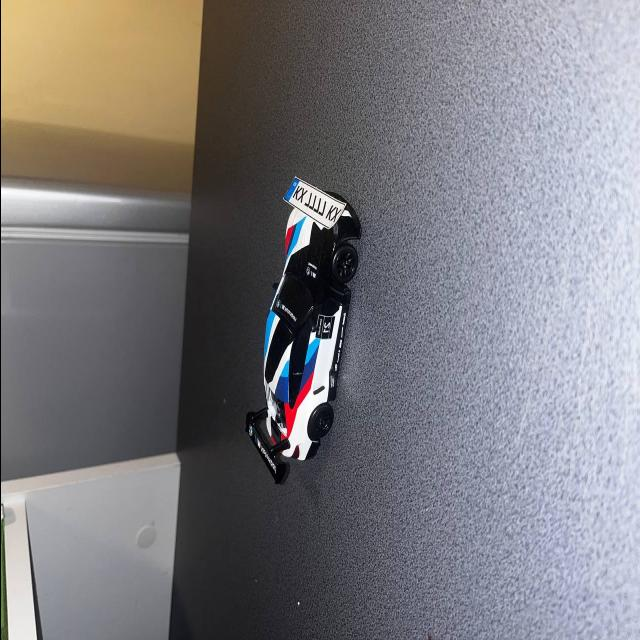cars: (244, 169, 370, 497)
